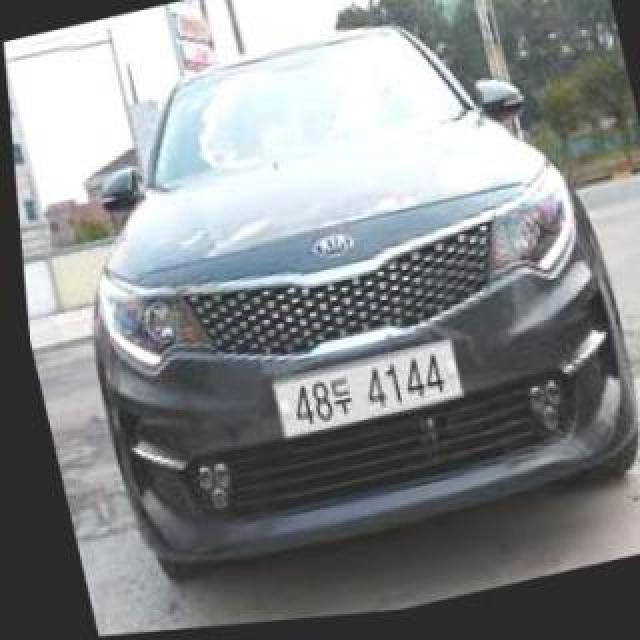car: (99, 21, 640, 574)
illegal_plate: (271, 337, 461, 442)
